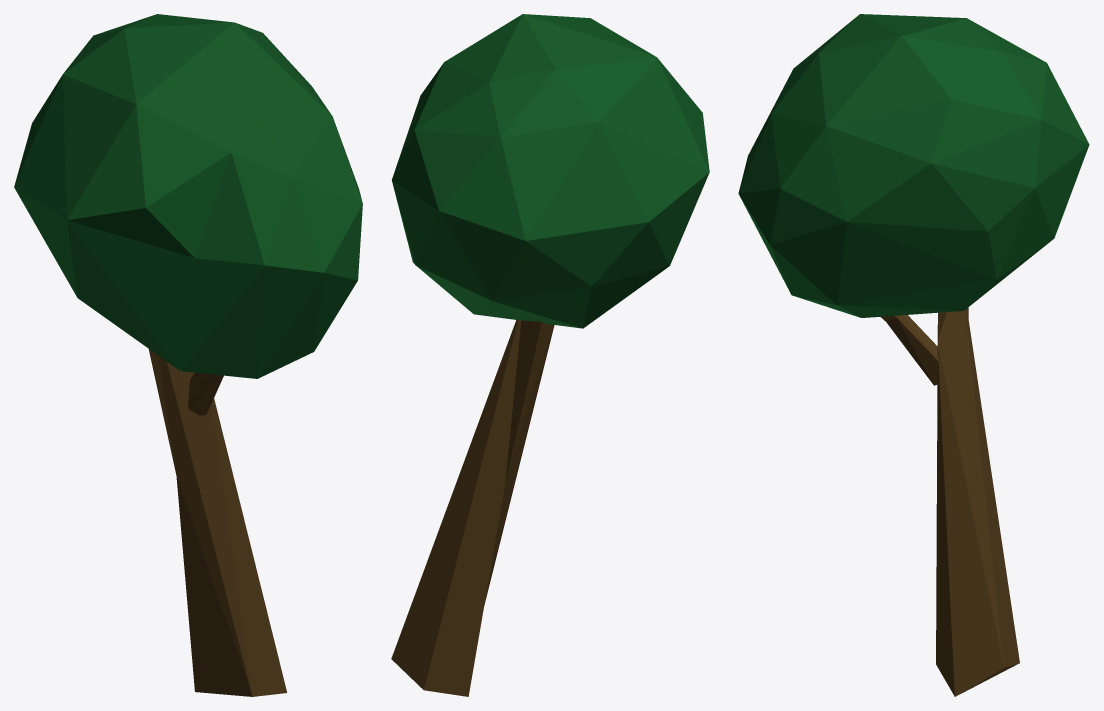
File: tree_03.fbx
3 views of the same model, side by side, from view 1: azimuth 30°, elevation 25°; view 2: azimuth 150°, elevation 25°; view 3: azimuth 270°, elevation 25° (orthographic). The views are drawn at different scales.
Parts seen in each view (by area): view 1: tree_00tree00, tree_00PM3D_Cylinder3D2, tree_00PM3D_Cylinder3D1; view 2: tree_00tree00, tree_00PM3D_Cylinder3D2; view 3: tree_00tree00, tree_00PM3D_Cylinder3D2, tree_00PM3D_Cylinder3D1.
Part boxes in pixels (x1,y1,x2,y2): tree_00tree00: (14,14,362,378); tree_00PM3D_Cylinder3D2: (148,349,287,696); tree_00PM3D_Cylinder3D1: (188,372,223,415); tree_00tree00: (392,14,709,328); tree_00PM3D_Cylinder3D2: (391,319,554,696); tree_00tree00: (738,14,1089,317); tree_00PM3D_Cylinder3D2: (936,307,1019,696); tree_00PM3D_Cylinder3D1: (880,315,939,385).
Bounding box in the file's own units: 166 × 405 × 206.
